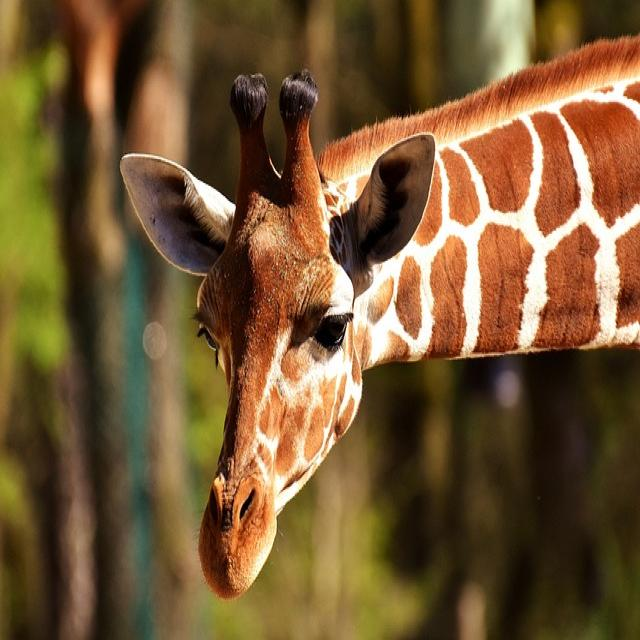Herbivorous: (119, 34, 640, 604)
